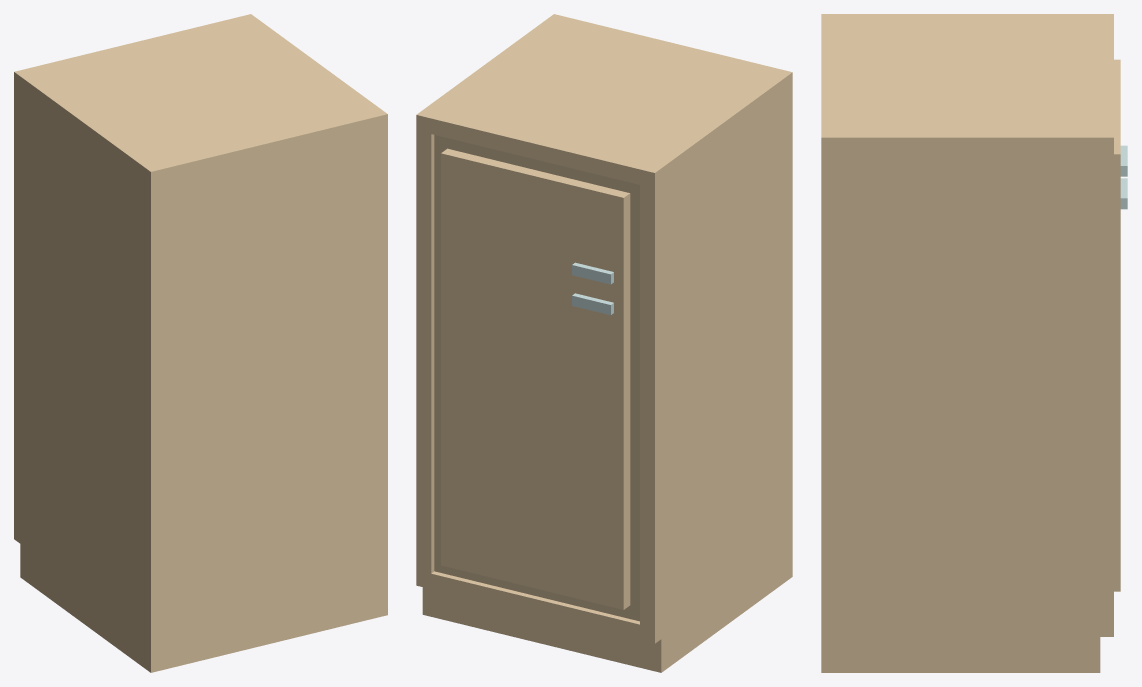
File: kitchen_fridge_built_in.glb
3 views of the same model, side by side, from view 1: azimuth 30°, elevation 25°; view 2: azimuth 150°, elevation 25°; view 3: azimuth 270°, elevation 25° (orthographic). The views are drawn at different scales.
Parts seen in each view (by area): view 1: _MeshInstance3D_573; view 2: _MeshInstance3D_573, _MeshInstance3D_572, _MeshInstance3D_571; view 3: _MeshInstance3D_573, _MeshInstance3D_572, _MeshInstance3D_571.
Boxes of the visible parts, left/top/right/bottom form: _MeshInstance3D_573: left=14, top=14, right=387, bottom=672; _MeshInstance3D_573: left=416, top=14, right=792, bottom=672; _MeshInstance3D_572: left=441, top=250, right=630, bottom=609; _MeshInstance3D_571: left=441, top=148, right=630, bottom=294; _MeshInstance3D_573: left=821, top=14, right=1113, bottom=672; _MeshInstance3D_572: left=1114, top=178, right=1127, bottom=591; _MeshInstance3D_571: left=1114, top=59, right=1127, bottom=256.
Bounding box in the file's own units: 4.3 × 8.69 × 4.5.
